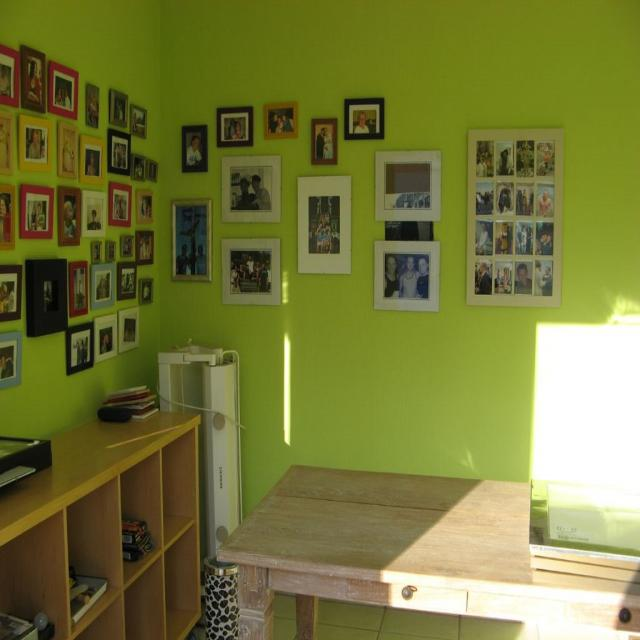desk: (176, 447, 629, 640)
